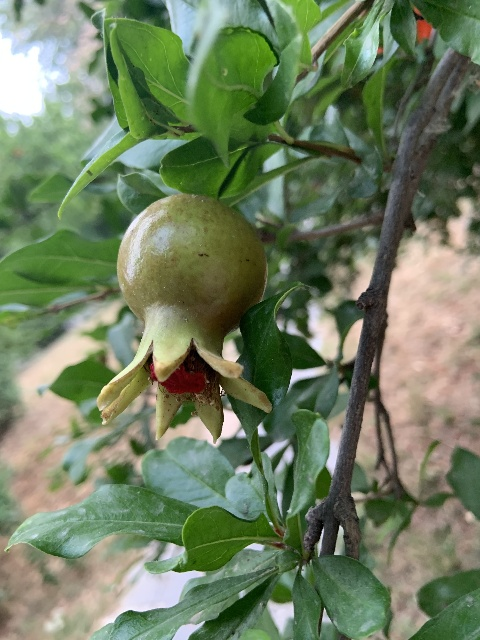mid-growth: (96, 192, 272, 445)
